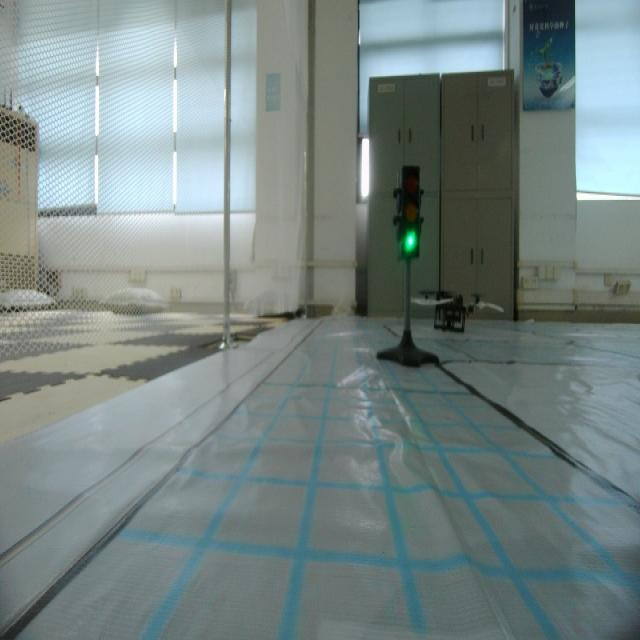green: (395, 162, 424, 266)
